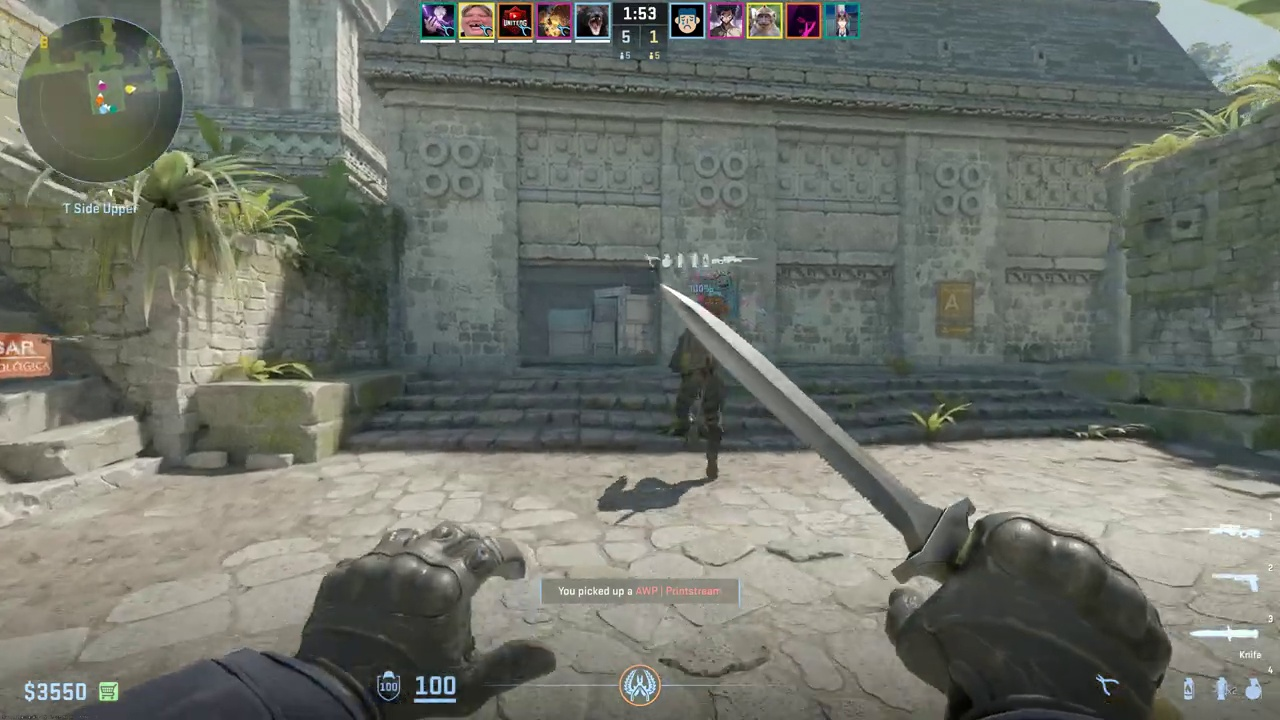CT: (669, 325, 728, 480)
